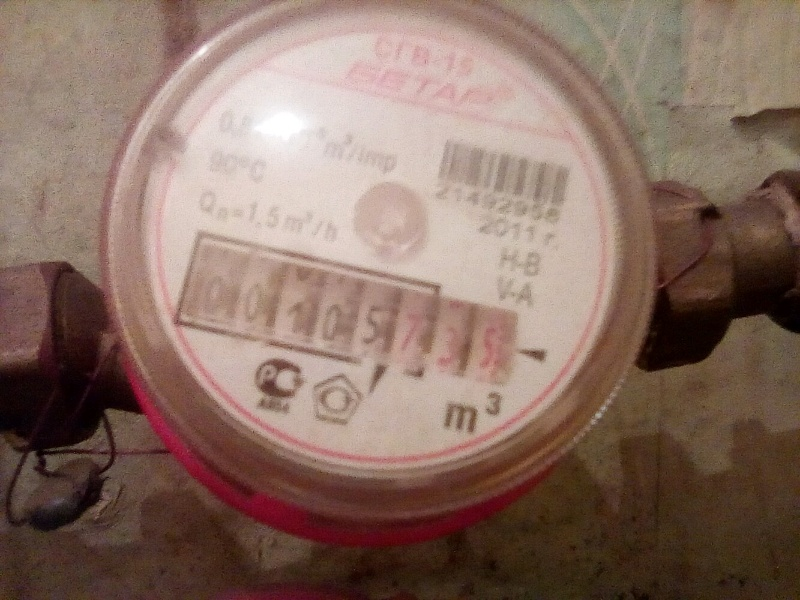meter: (181, 260, 500, 380)
